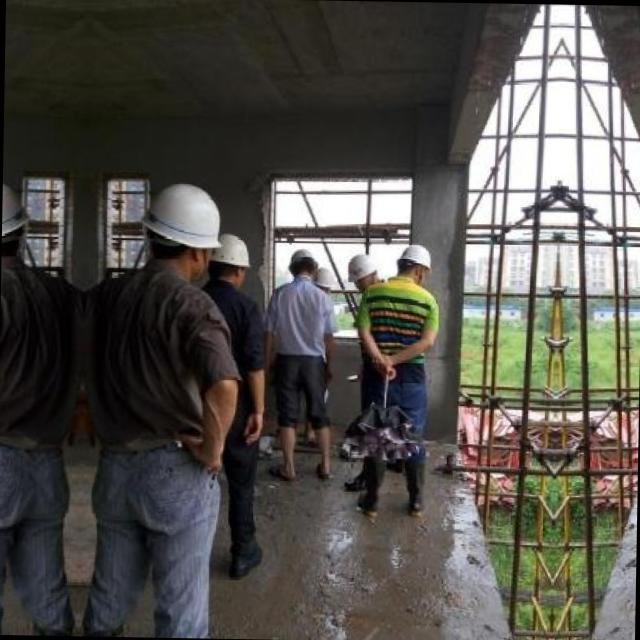helmet: (134, 172, 228, 281), (207, 226, 259, 296), (1, 169, 34, 279), (396, 233, 434, 290), (346, 252, 382, 294), (288, 245, 318, 283), (311, 264, 336, 300)
